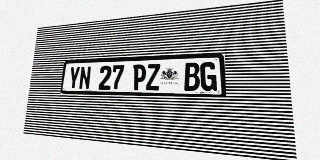2: (98, 65, 112, 90)
7: (111, 65, 124, 90)
B: (184, 62, 200, 91)
G: (200, 62, 217, 91)
N: (78, 66, 91, 90)
P: (132, 64, 146, 90)
Y: (68, 66, 80, 89)
Z: (146, 64, 160, 90)
